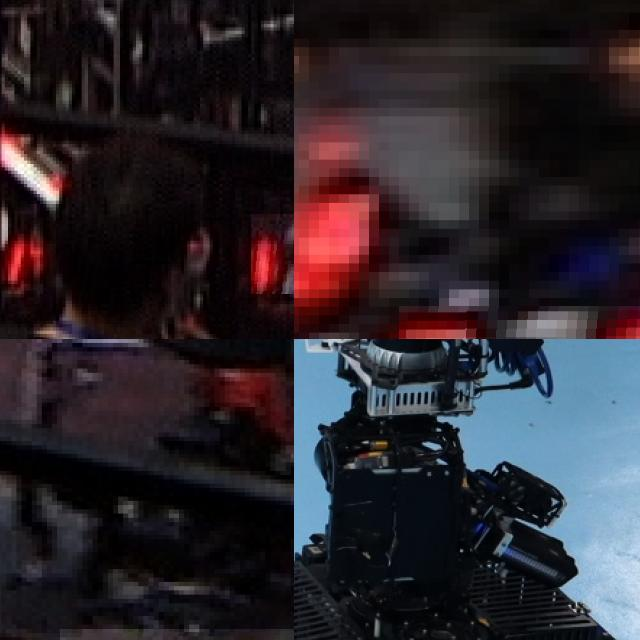R1: (399, 306, 640, 339)
R2: (251, 214, 294, 294)
